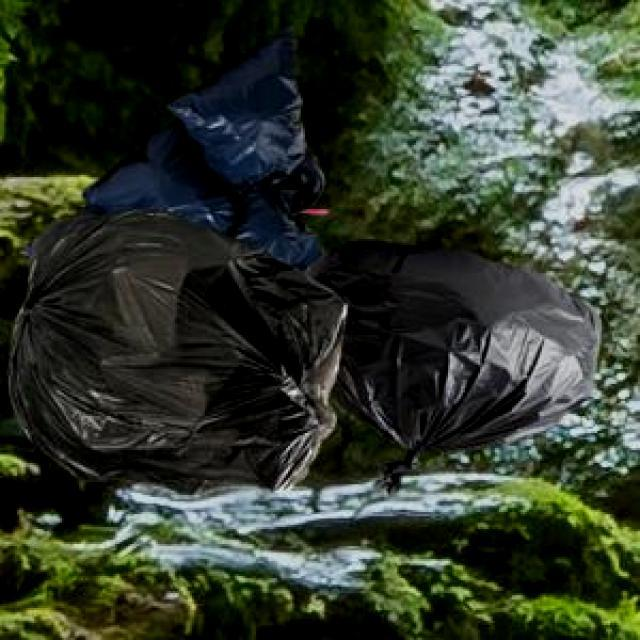Trashbag: (25, 220, 334, 509), (345, 247, 602, 450), (187, 47, 313, 172), (82, 137, 199, 229)
